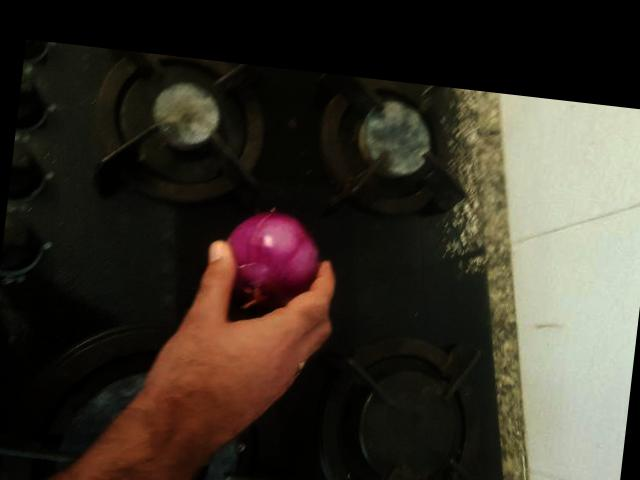onion: (409, 145, 517, 252)
